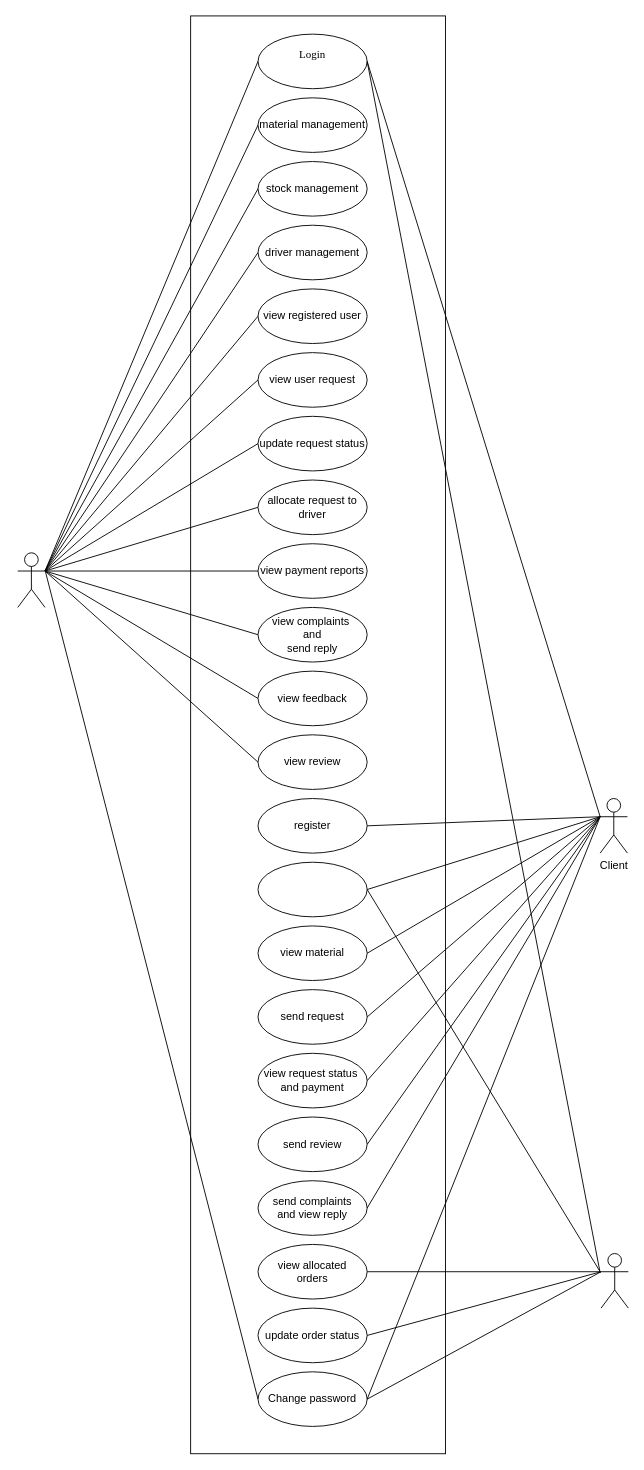
Some shapes in this 644 by 1470 pixel diagram are drawn without their labels. Here are the shapes that lost their labels. From the top down, the box of each, then its label:
(17, 552, 45, 607): Admin
(257, 861, 367, 917): view profile
(600, 1253, 628, 1308): Driver
